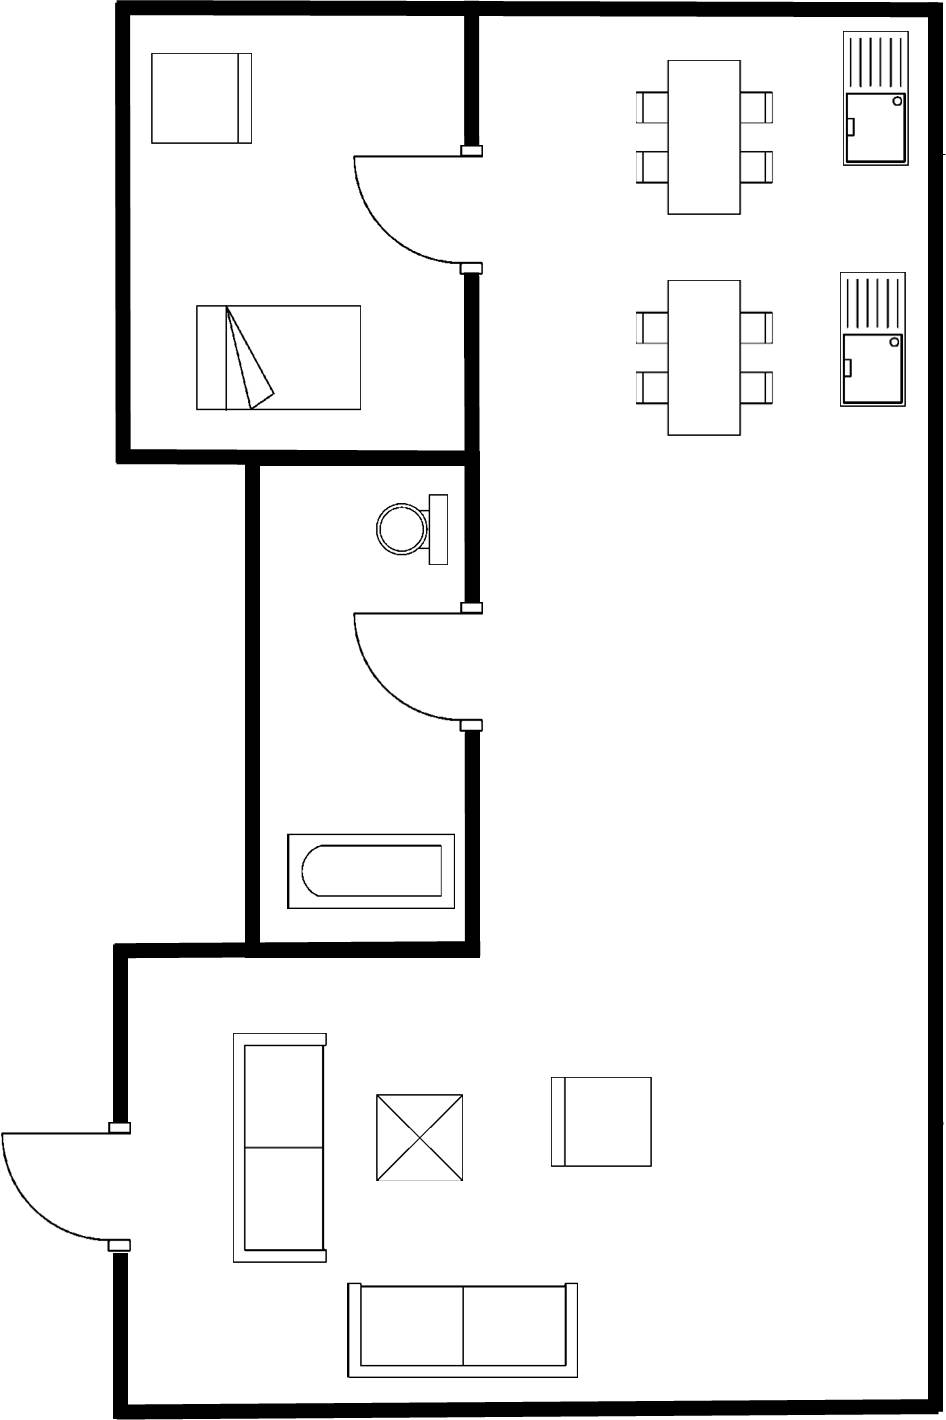bed: (187, 296, 372, 419)
coffee_table: (365, 1087, 473, 1189)
dining_table: (631, 269, 783, 444), (626, 51, 780, 222)
large_sink: (362, 486, 459, 578)
large_sofa: (340, 1274, 587, 1394), (222, 1024, 338, 1276)
sink: (831, 22, 920, 175), (829, 264, 916, 418)
small_sofa: (538, 1065, 662, 1181), (140, 47, 259, 151)
tub: (279, 826, 462, 919)
